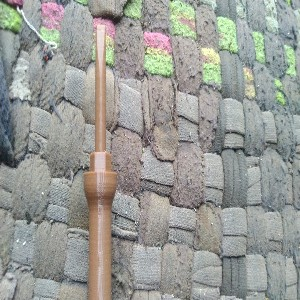obeng: (82, 24, 117, 300)
